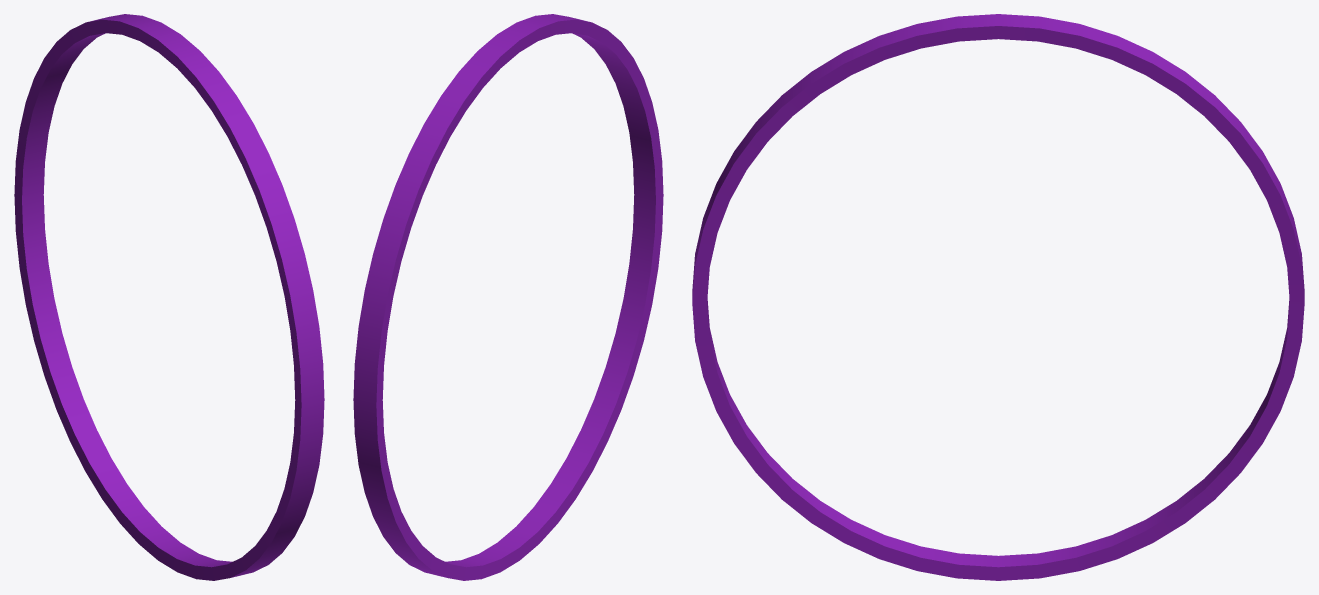
The model's file is Gizmo.fbx.
3 renders of one model, left to right at view 1: azimuth 30°, elevation 25°; view 2: azimuth 150°, elevation 25°; view 3: azimuth 270°, elevation 25°, orthographic. The views are drawn at different scales.
Parts seen in each view (by area): view 1: Gizmo.001; view 2: Gizmo.001; view 3: Gizmo.001.
Part boxes in pixels (x1,y1,x2,y2): Gizmo.001: (14,14,324,580); Gizmo.001: (353,14,663,580); Gizmo.001: (692,14,1304,580).
Bounding box in the file's own units: 200 × 200 × 9.22.
